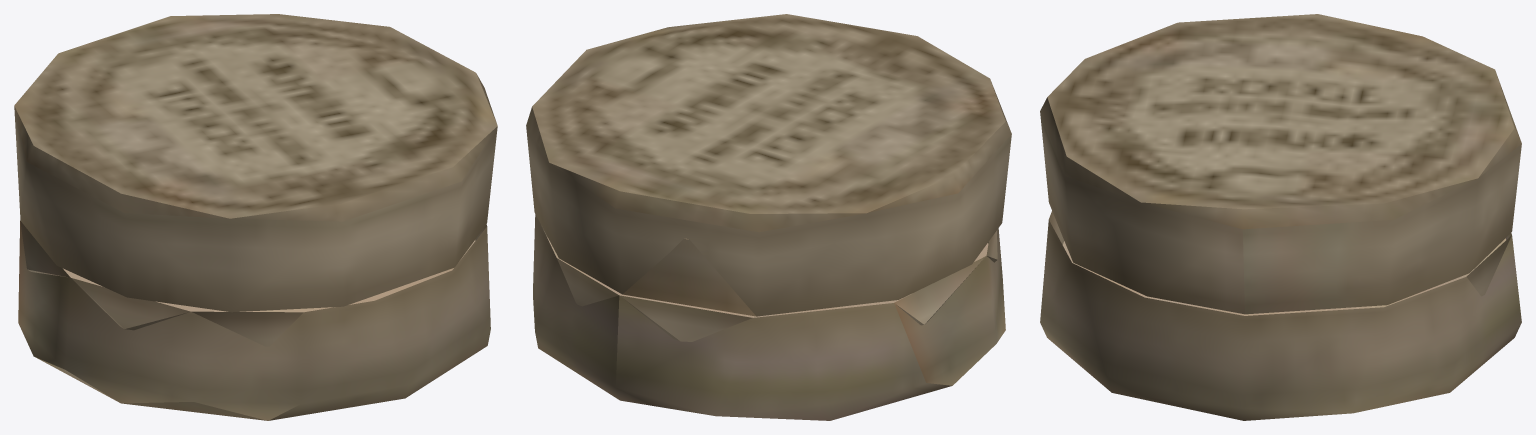
File: powder-box.lod1.glb
The picture shows the model from 3 angles, left to right: view 1: azimuth 30°, elevation 25°; view 2: azimuth 150°, elevation 25°; view 3: azimuth 270°, elevation 25°; orthographic projection.
Visible parts, largest first — view 1: powder-box; view 2: powder-box; view 3: powder-box.
Part boxes in pixels (left/top/right/bottom): powder-box: left=14, top=14, right=497, bottom=420; powder-box: left=526, top=14, right=1011, bottom=420; powder-box: left=1040, top=14, right=1521, bottom=420.
Bounding box in the file's own units: 0.0575 × 0.0279 × 0.0575.
Materials: 1 (1 with a texture image).
